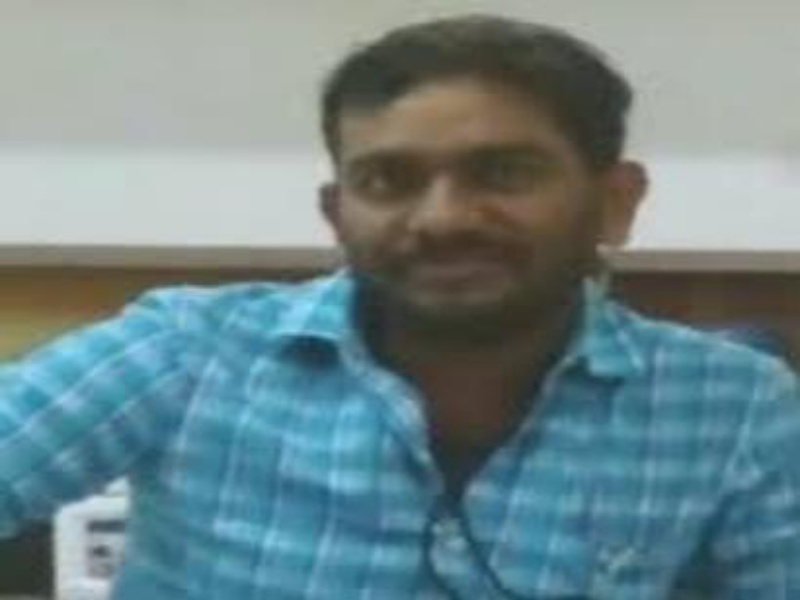TsisyArotava: (300, 17, 666, 366)
